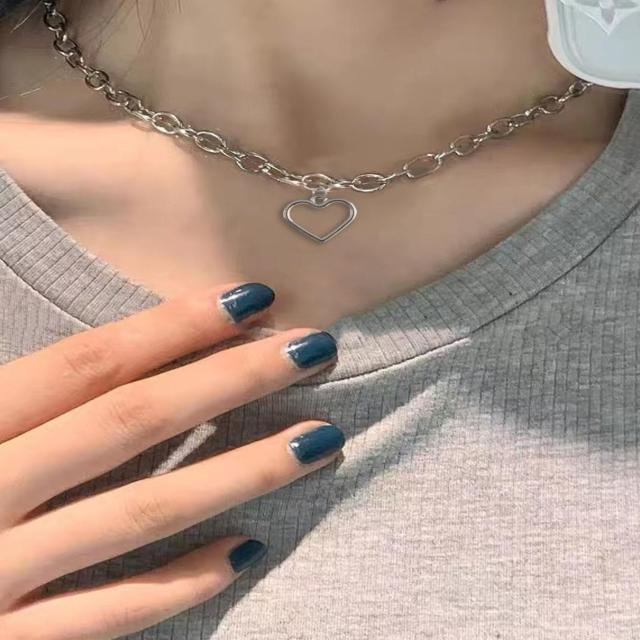Nail: (288, 423, 345, 465), (218, 283, 274, 324), (283, 331, 337, 369), (227, 539, 265, 573)
